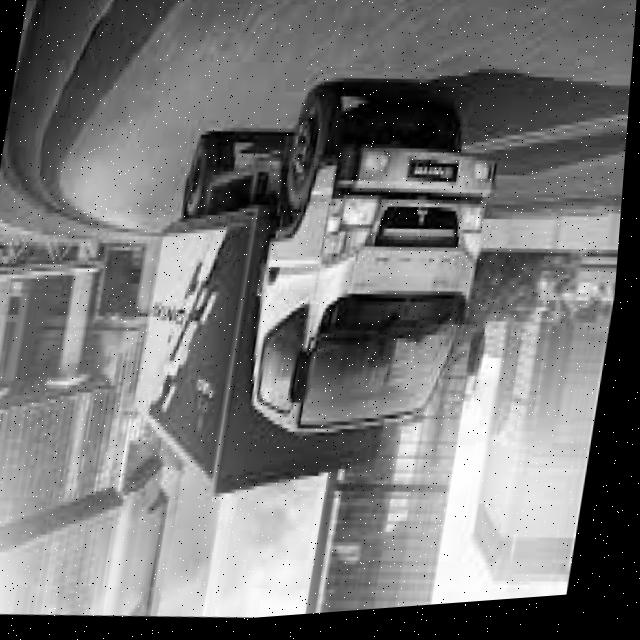truck: (220, 70, 538, 492)
